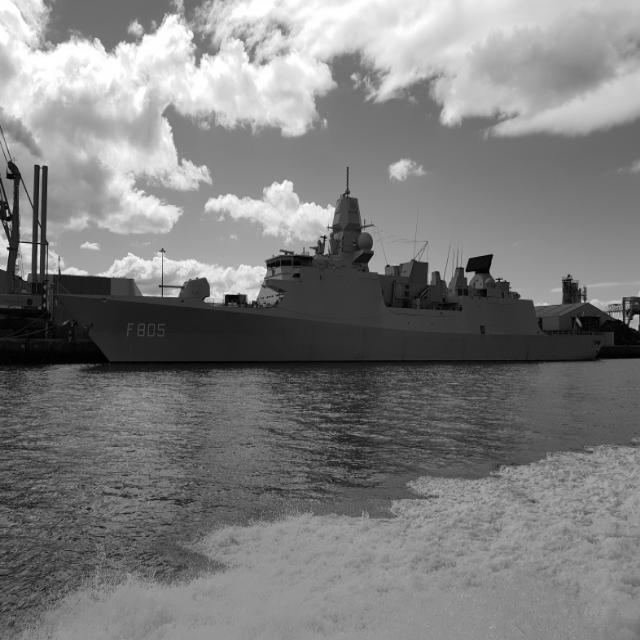Fragata: (56, 176, 628, 371)
